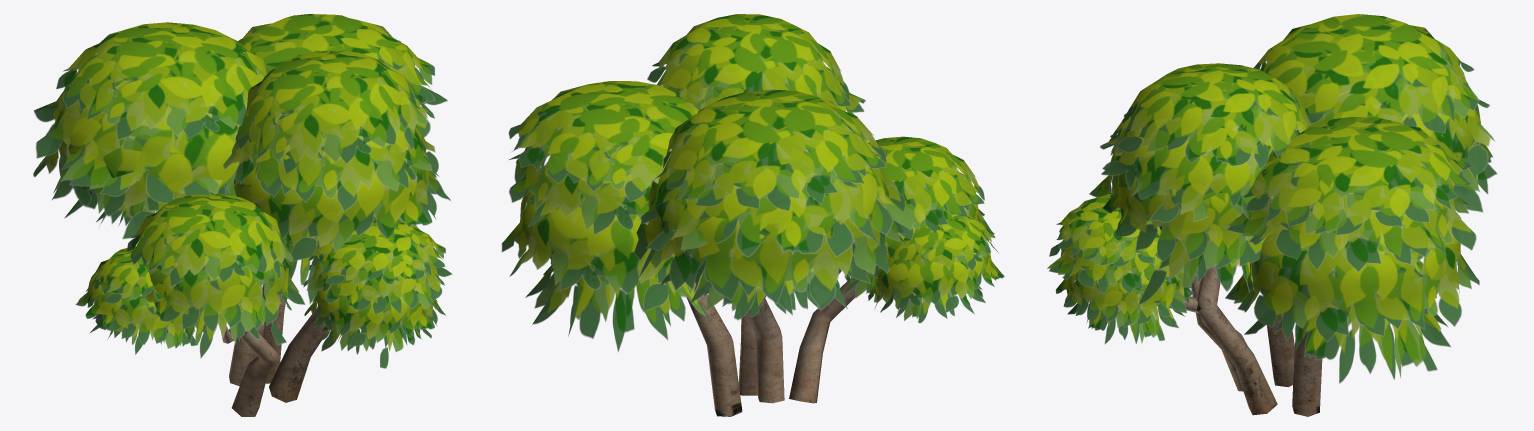
Rendered from bush-ktx.glb.
The picture shows the model from 3 angles, left to right: view 1: azimuth 30°, elevation 25°; view 2: azimuth 150°, elevation 25°; view 3: azimuth 270°, elevation 25°; orthographic projection.
Size of the model in its own units: 2.14 by 1.66 by 2.06.
Materials: 2 (2 with a texture image).
